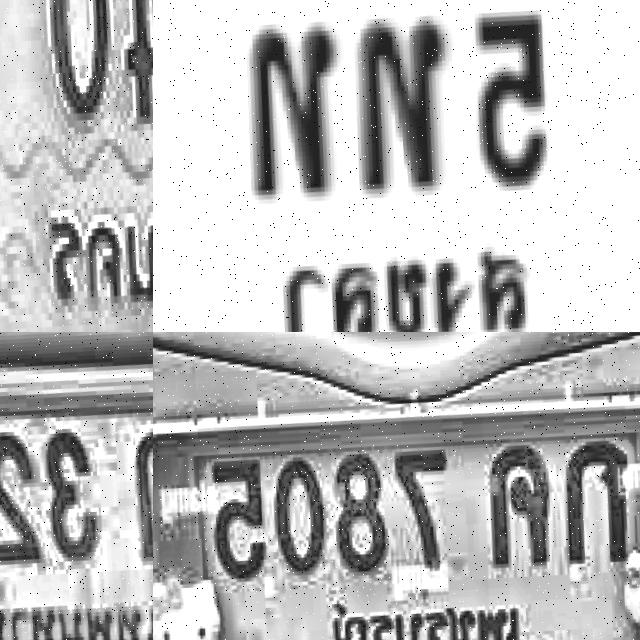license-plate: (153, 0, 640, 332), (153, 345, 640, 640), (0, 0, 153, 332), (0, 332, 153, 640)
